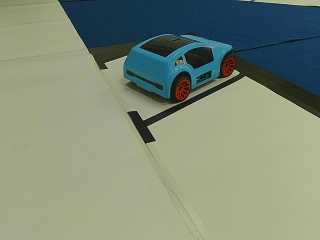car: (123, 32, 239, 101)
